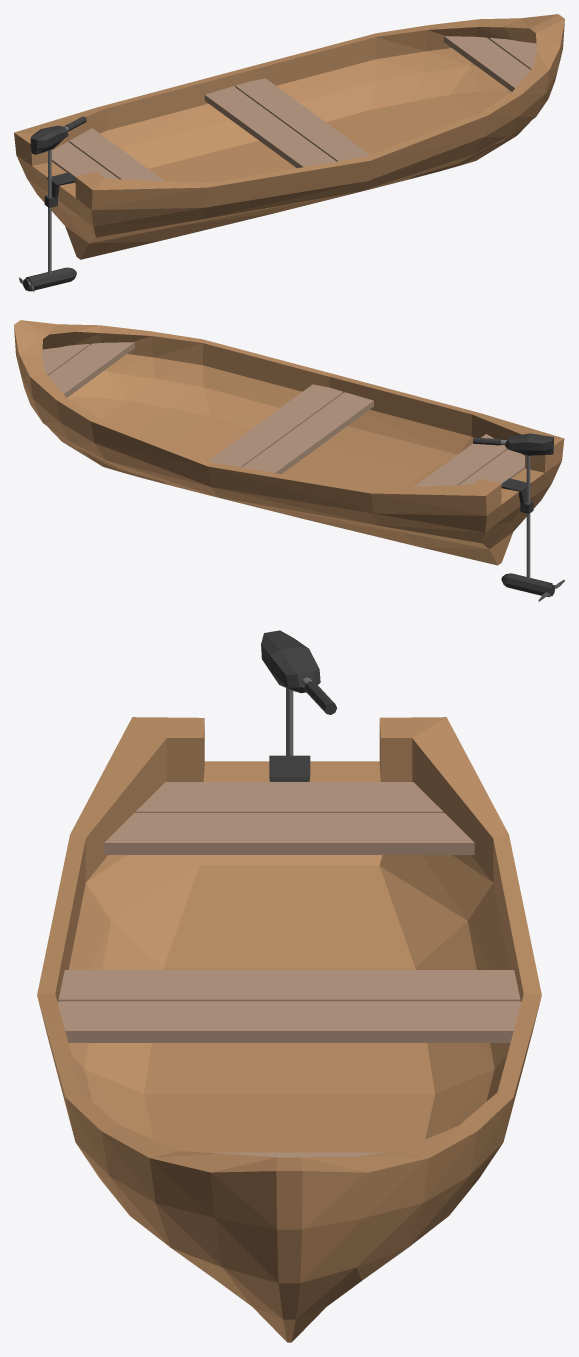
Rendered from boat.fbx.
3 views of the same model, one above another, from view 1: azimuth 30°, elevation 25°; view 2: azimuth 150°, elevation 25°; view 3: azimuth 270°, elevation 25° (orthographic). The views are drawn at different scales.
Visible parts, largest first — view 1: pCube18, pCube19, pCube17, pCube14, pCube16, pCube15, pCube11, pCylinder3, pCube13, pCube12, pCylinder4; view 2: pCube18, pCube19, pCube17, pCube14, pCube16, pCube15, pCube11, pCylinder3, pCube13, pCylinder4, pCube12; view 3: pCube18, pCube17, pCube16, pCube19, pCube15, pCube11, pCube12.
Boxes of the visible parts, box(x1,y1,x2,y2) form: pCube18: box(14, 14, 564, 259); pCube19: box(204, 86, 336, 168); pCube17: box(235, 78, 369, 161); pCube14: box(443, 36, 530, 91); pCube16: box(69, 128, 164, 181); pCube15: box(52, 142, 118, 179); pCube11: box(30, 116, 86, 154); pCylinder3: box(19, 267, 76, 291); pCube13: box(488, 38, 536, 69); pCube12: box(44, 172, 75, 207); pCylinder4: box(48, 149, 51, 273); pCube18: box(14, 320, 564, 565); pCube19: box(242, 392, 373, 473); pCube17: box(208, 384, 343, 467); pCube14: box(48, 342, 134, 397); pCube16: box(414, 434, 507, 486); pCube15: box(459, 449, 524, 484); pCube11: box(473, 433, 553, 455); pCylinder3: box(501, 573, 564, 601); pCube13: box(42, 344, 89, 375); pCylinder4: box(526, 455, 530, 579); pCube12: box(501, 478, 533, 513); pCube18: box(37, 717, 541, 1342); pCube17: box(58, 1001, 520, 1042); pCube16: box(104, 813, 474, 854); pCube19: box(58, 970, 520, 1001); pCube15: box(135, 782, 443, 812); pCube11: box(261, 630, 336, 714); pCube12: box(269, 755, 310, 781).
Bounding box in the file's own units: 22.37 × 6.2 × 9.09.
